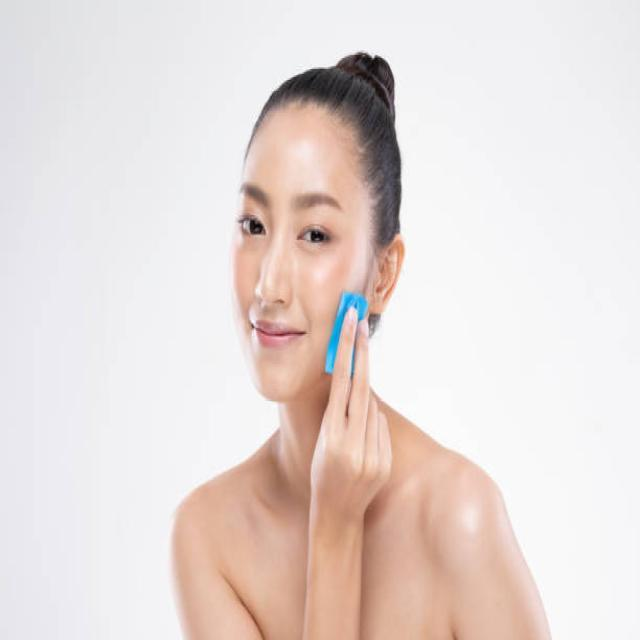dry: (270, 140, 324, 228), (306, 302, 346, 392), (238, 262, 278, 324), (320, 240, 350, 276), (264, 356, 340, 360), (280, 359, 286, 396)
